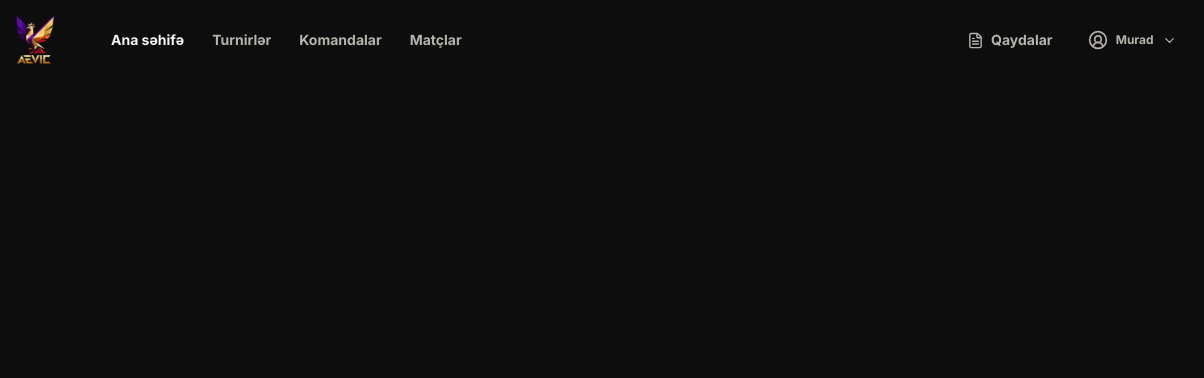
Test: audit resolution navigation integrity › renders role-first Admin identity in the public header
Click the button with aria-label "hesab menyusu" at (1132, 40), box x1=1077 y1=18 x2=1187 y2=62
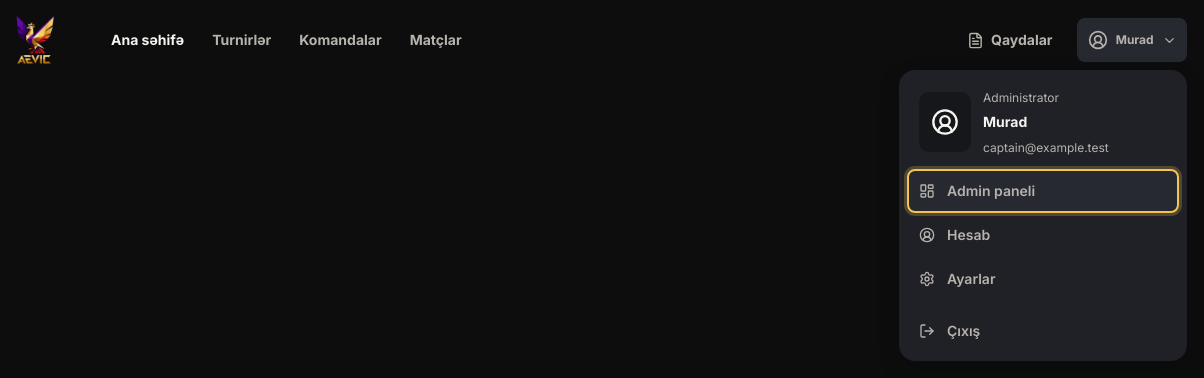
Now the text "Administrator" is shown, box x1=983 y1=90 x2=1059 y2=105
